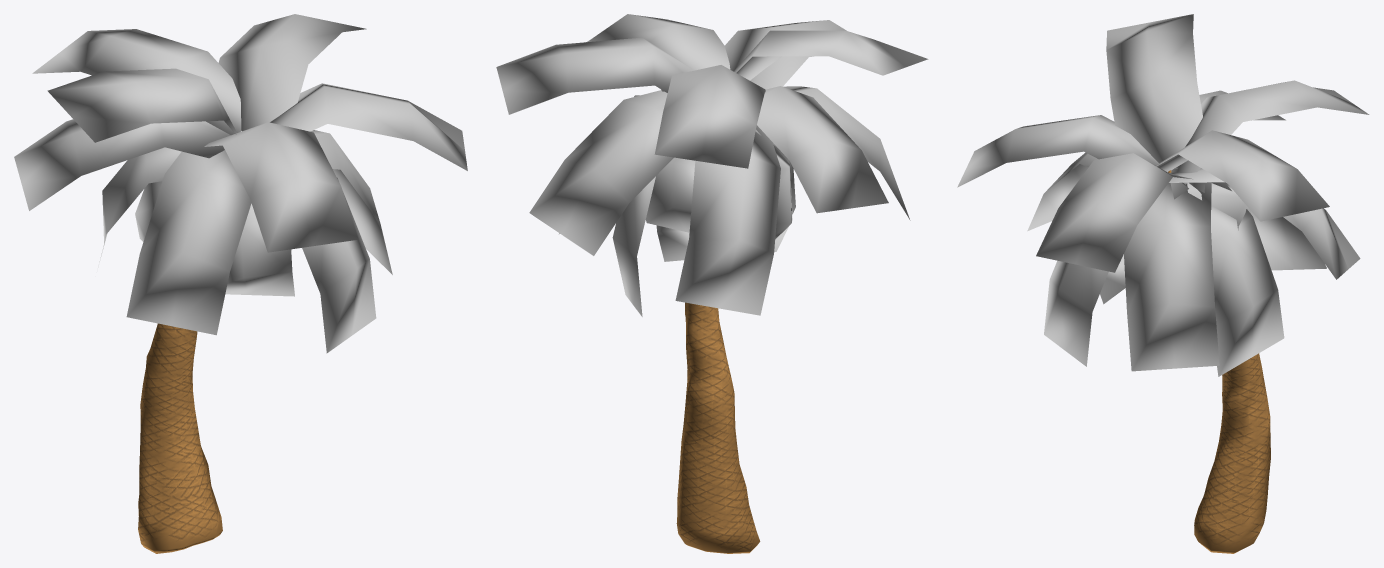
The model's file is Palm_tall.fbx.
3 renders of one model, left to right at view 1: azimuth 30°, elevation 25°; view 2: azimuth 150°, elevation 25°; view 3: azimuth 270°, elevation 25°, orthographic. The views are drawn at different scales.
Parts seen in each view (by area): view 1: tall_palm; view 2: tall_palm; view 3: tall_palm.
Part boxes in pixels (<box>): tall_palm: <box>14,14,467,553</box>; tall_palm: <box>496,14,928,553</box>; tall_palm: <box>957,14,1369,553</box>.
Bounding box in the file's own units: 49.62 × 63 × 50.11.
